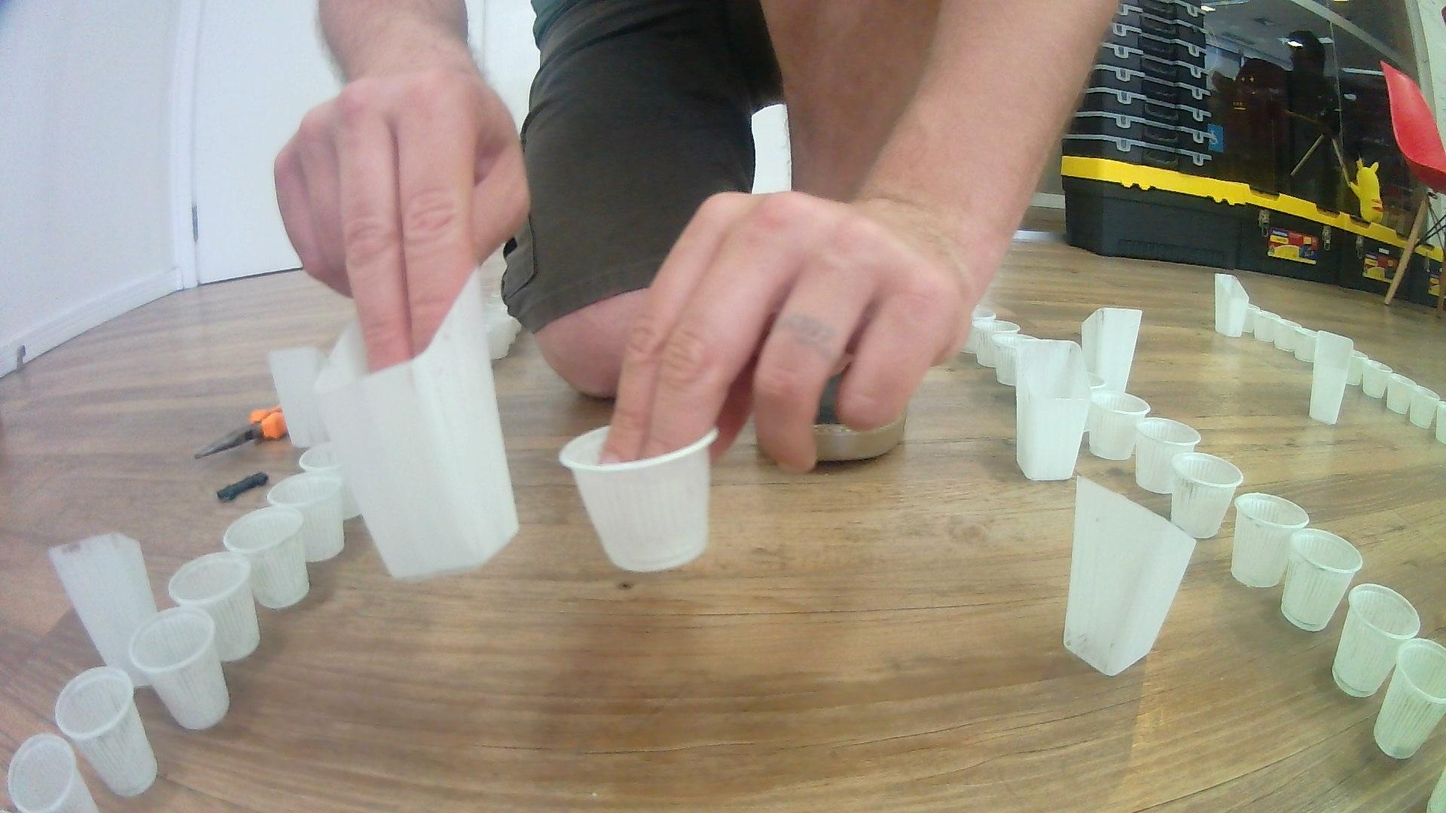erva_daninha: (300, 265, 521, 583), (1060, 470, 1200, 679), (47, 529, 160, 690), (1014, 340, 1094, 481), (266, 346, 343, 449), (1080, 305, 1145, 397), (1307, 328, 1356, 426), (1213, 271, 1252, 340)
planta: (557, 423, 720, 575), (53, 665, 160, 796), (130, 603, 231, 732), (1329, 582, 1422, 699), (167, 550, 261, 665), (221, 504, 311, 611), (1373, 636, 1446, 760), (1281, 527, 1365, 633), (6, 732, 102, 813), (1230, 492, 1309, 589), (267, 471, 346, 563), (1170, 452, 1246, 540), (1135, 416, 1201, 497), (297, 445, 359, 522), (1088, 391, 1150, 462), (993, 333, 1039, 386), (975, 321, 1023, 368), (962, 311, 998, 354), (1409, 387, 1440, 428), (1386, 374, 1416, 415), (1246, 304, 1276, 343), (1362, 361, 1393, 398), (1271, 316, 1300, 352), (1344, 349, 1369, 386), (1293, 327, 1317, 363), (1434, 401, 1446, 444)
